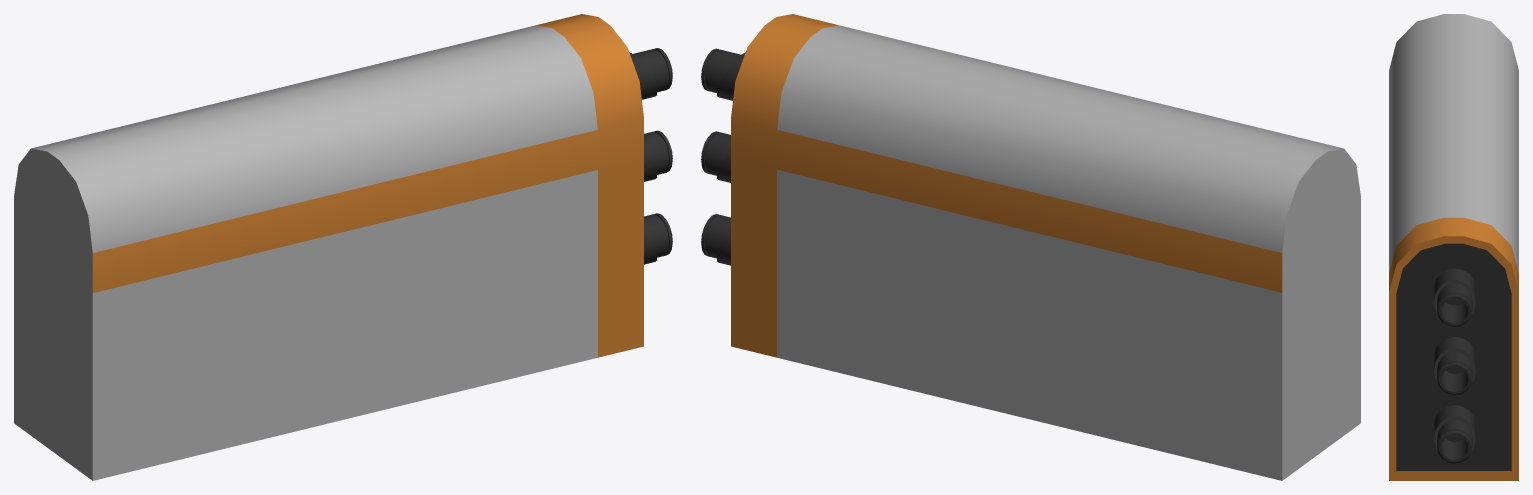
File: Barrel_AR_1.glb
3 views of the same model, side by side, from view 1: azimuth 30°, elevation 25°; view 2: azimuth 150°, elevation 25°; view 3: azimuth 270°, elevation 25° (orthographic). The views are drawn at different scales.
Visible parts, largest first — view 1: Barrel_AR_1; view 2: Barrel_AR_1; view 3: Barrel_AR_1.
Part boxes in pixels (bbox=[...]): Barrel_AR_1: bbox=[14, 14, 672, 480]; Barrel_AR_1: bbox=[701, 14, 1360, 480]; Barrel_AR_1: bbox=[1389, 14, 1518, 480].
Size of the model in its own units: 0.5138 by 0.2384 by 0.1147.
